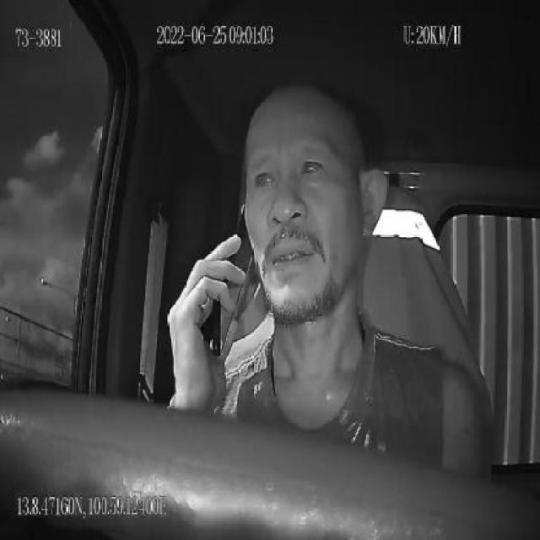phone: (212, 204, 254, 360)
